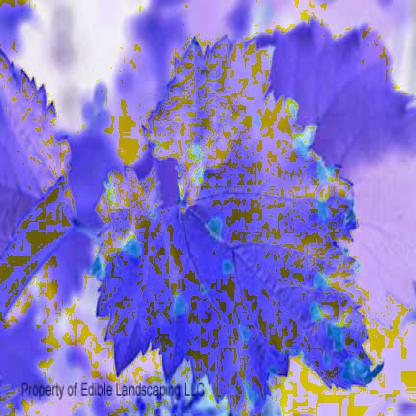grape leaf black rot: (75, 29, 386, 402)
